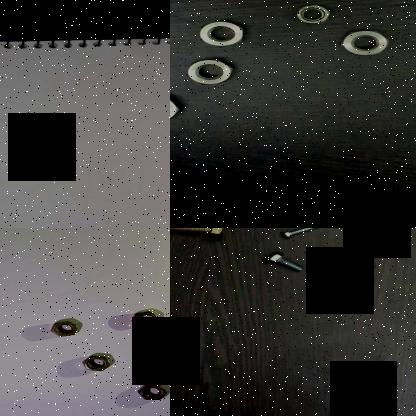Bolts: (262, 252, 308, 274), (170, 228, 228, 241), (276, 228, 326, 242)
NUTS: (178, 54, 242, 88), (332, 26, 390, 58), (194, 18, 248, 48), (294, 3, 330, 28), (44, 318, 80, 339), (135, 380, 169, 402), (76, 354, 113, 372), (129, 310, 161, 328), (170, 94, 182, 124), (153, 351, 170, 369)
